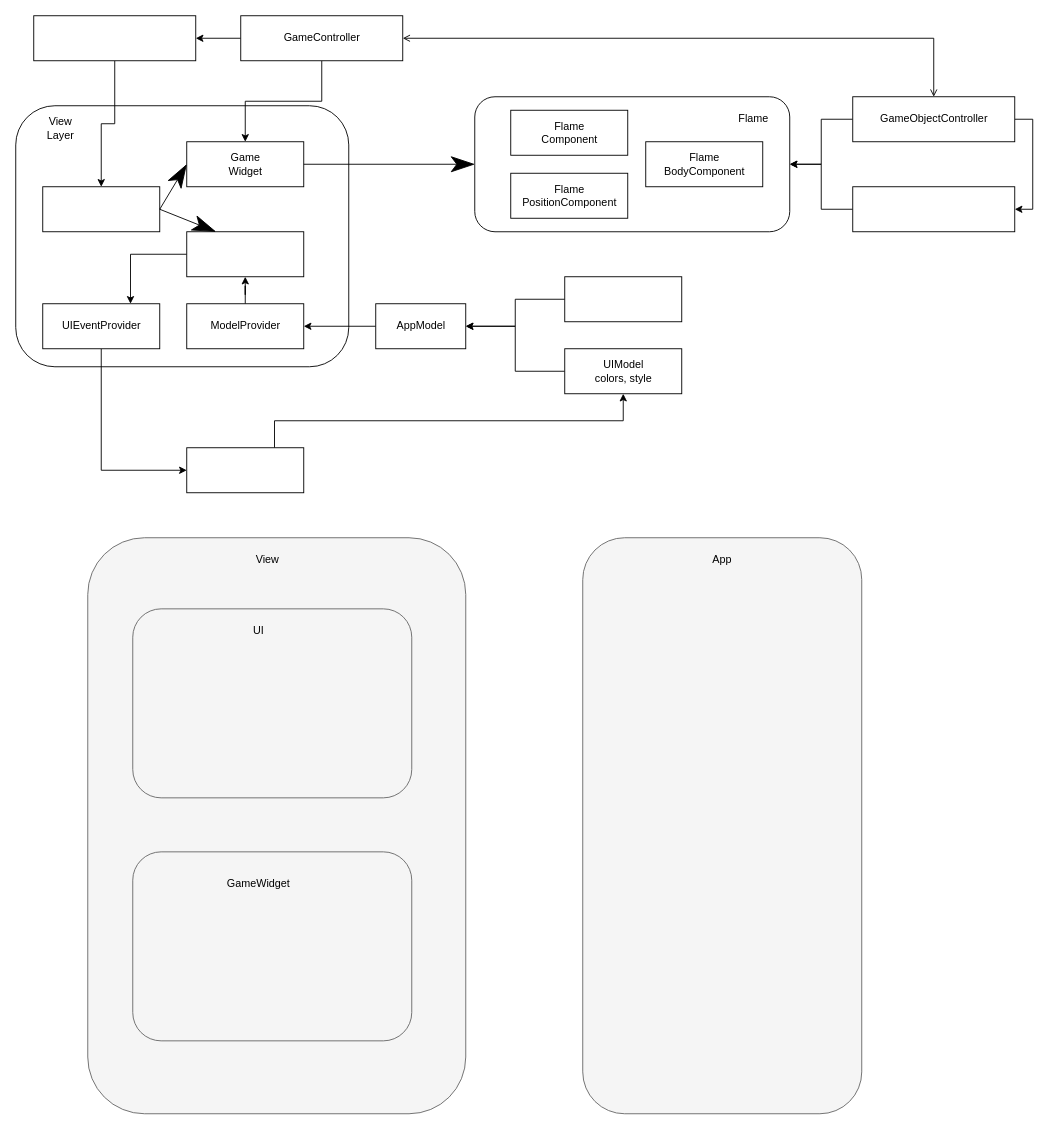
Some shapes in this 1056 by 1130 pixel diagram are drawn without their labels. The centre of each missing label's shape, as x and y in pixels:
Flutter Page: pixel 101 209
Flutter Widget: pixel 245 254
GameObjectModel Position, Speed, Velocity ...: pixel 933 209
ScenaController: pixel 114 38
SessionModel User, setting: pixel 623 299
UIController: pixel 245 470
